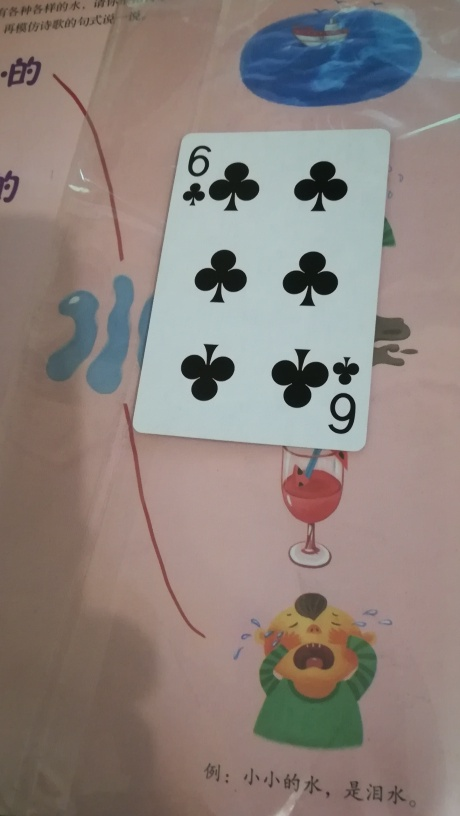mh 6: (131, 128, 392, 461)
